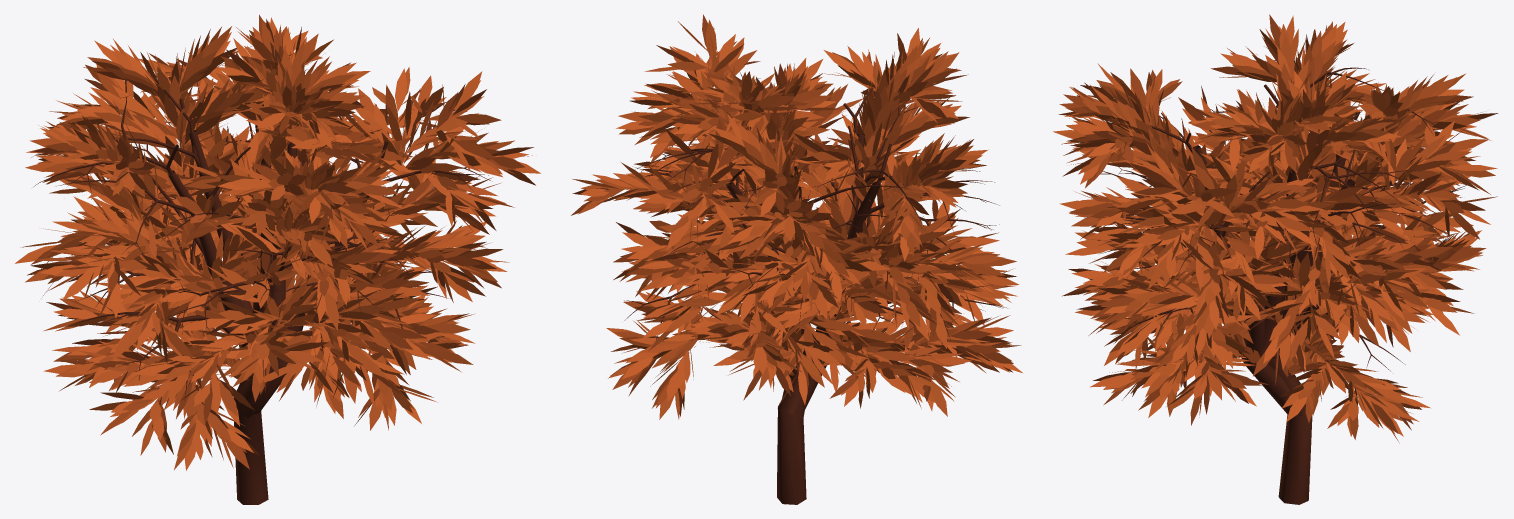
The model's file is arvore fall.fbx.
3 renders of one model, left to right at view 1: azimuth 30°, elevation 25°; view 2: azimuth 150°, elevation 25°; view 3: azimuth 270°, elevation 25°, orthographic. The views are drawn at different scales.
Parts seen in each view (by area): view 1: tree; view 2: tree; view 3: tree.
Part boxes in pixels (left/top/right/bottom): tree: left=15, top=14, right=540, bottom=504; tree: left=571, top=14, right=1022, bottom=504; tree: left=1053, top=14, right=1498, bottom=504.
Size of the model in its own units: 1388 by 1413 by 1296.
